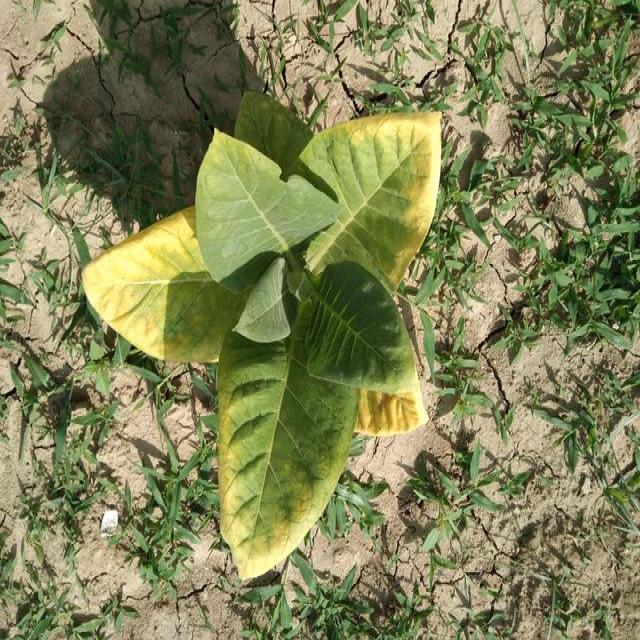crop: (75, 81, 449, 586)
